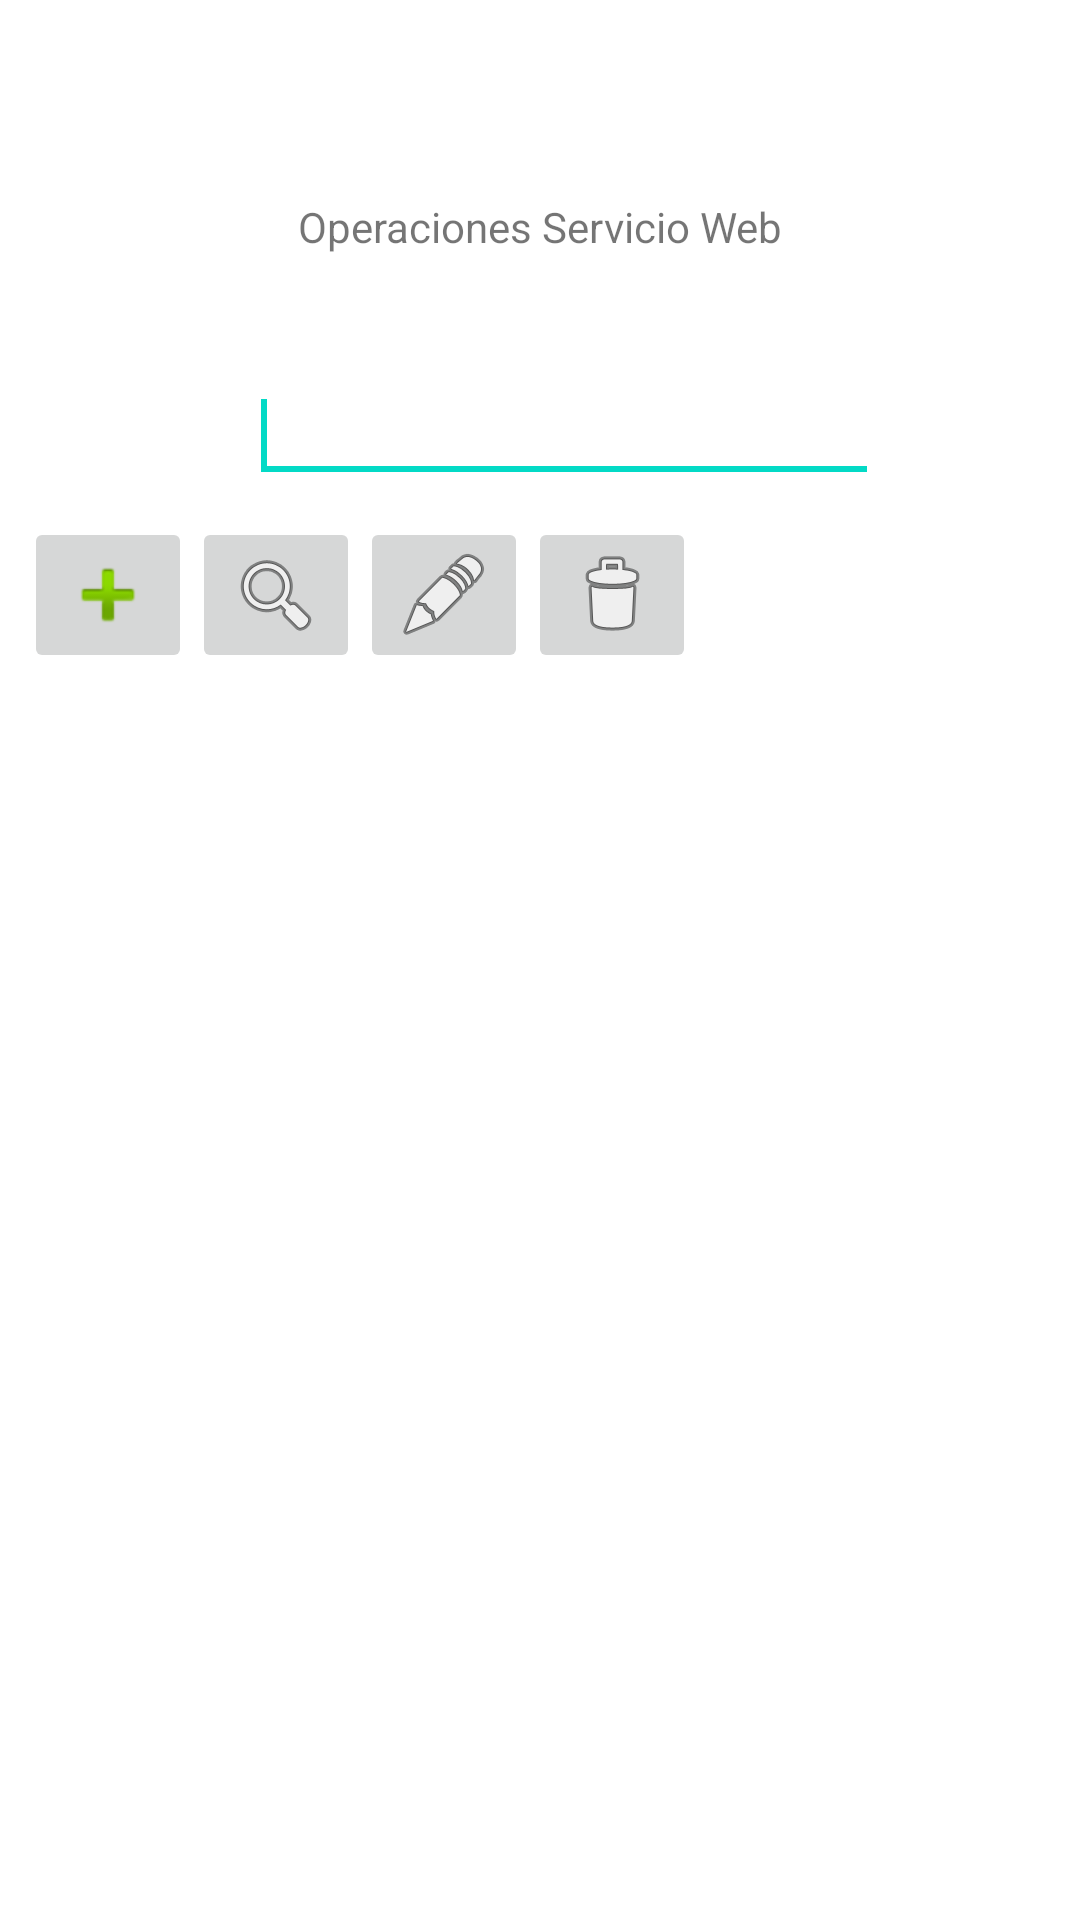

Screen size 1080*1920. Icon name, then its box in pixels as (x1, y1, x2, y2):
add: (36, 535, 180, 655)
delete: (540, 535, 684, 655)
edit: (372, 535, 516, 655)
search: (204, 535, 348, 655)
